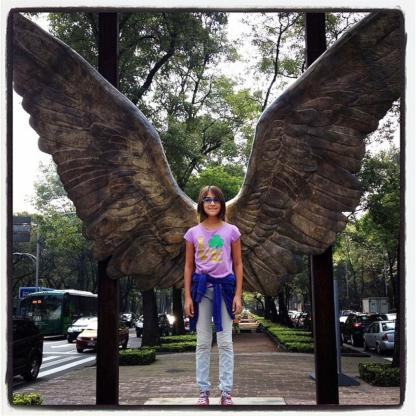Bus: (21, 288, 97, 337)
